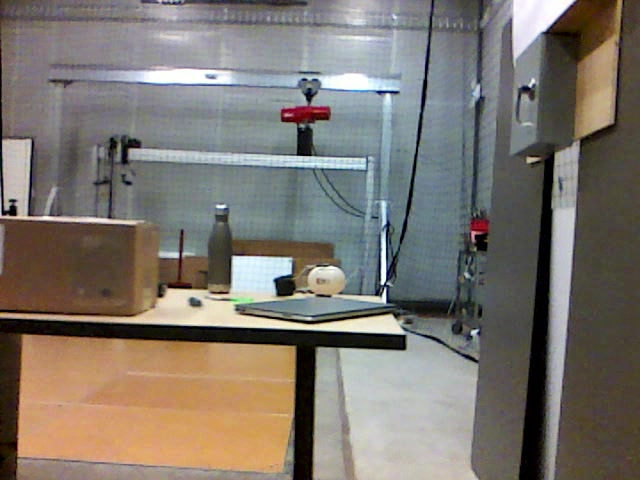box: (1, 216, 156, 320)
